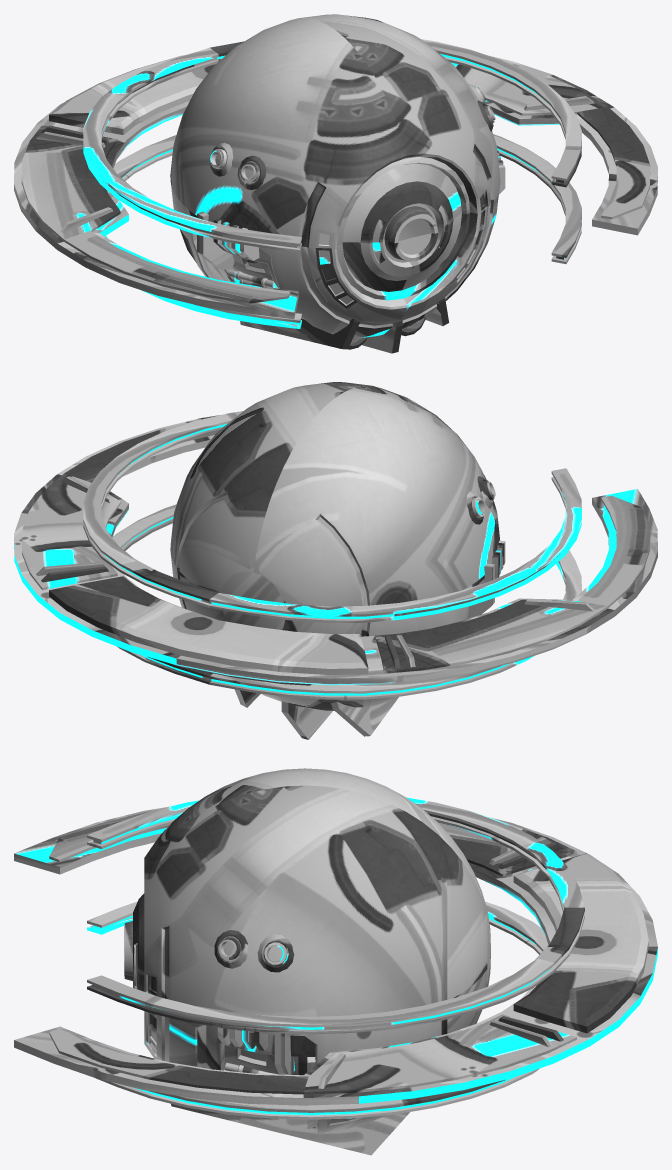
The model's file is uploads_files_4804646_Sphere_ship_01(FBX).fbx.
3 renders of one model, top to bottom at view 1: azimuth 30°, elevation 25°; view 2: azimuth 150°, elevation 25°; view 3: azimuth 270°, elevation 25°, orthographic. The views are drawn at different scales.
Visible parts, largest first — view 1: Sphere_ship_01_poly; view 2: Sphere_ship_01_poly; view 3: Sphere_ship_01_poly.
Boxes of the visible parts, x1=… form: Sphere_ship_01_poly: x1=14, y1=14, x2=657, y2=353; Sphere_ship_01_poly: x1=14, y1=382, x2=657, y2=739; Sphere_ship_01_poly: x1=14, y1=768, x2=657, y2=1155.
Bounding box in the file's own units: 25.06 × 13.73 × 22.53.
